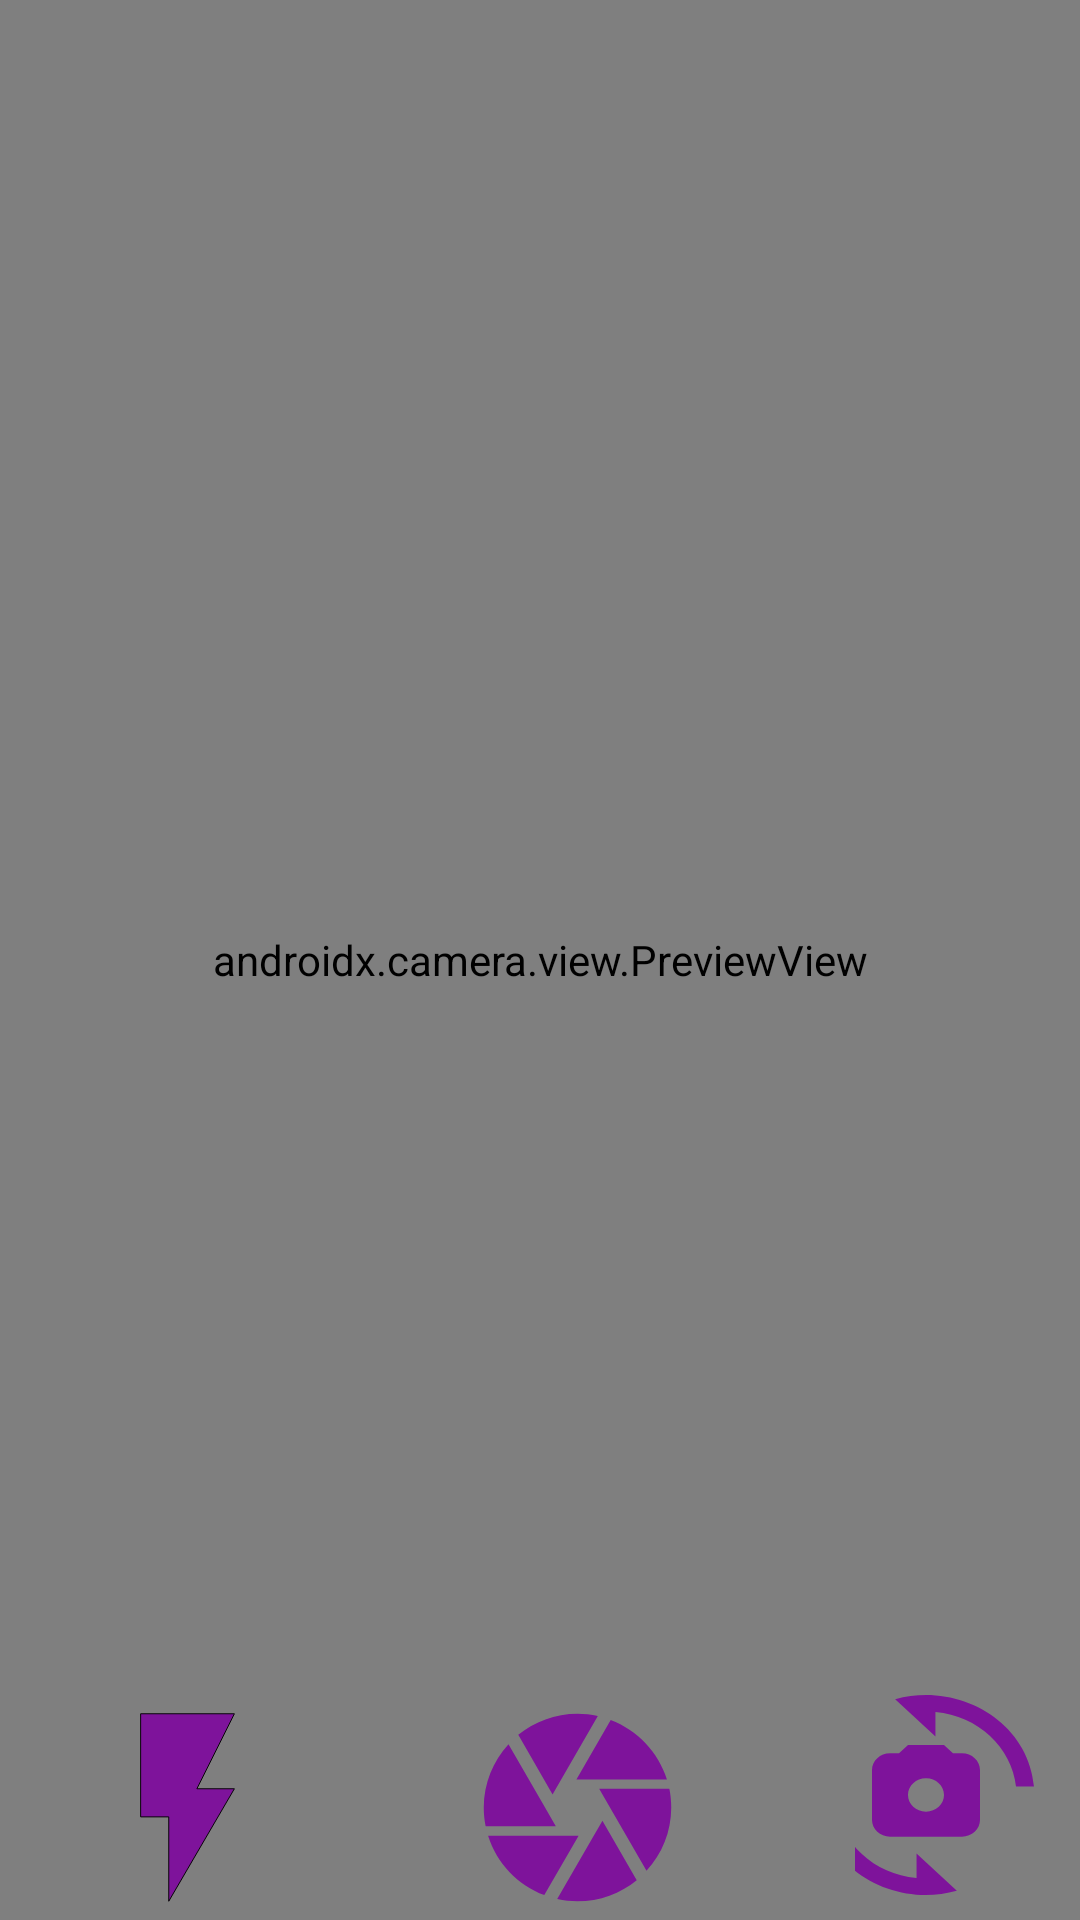

Screen size 1080 x 1920. Icon name, then its box in pixels as (left=x1, top=y1, right=x2, bottom=y2):
cameraswitch: (left=855, top=1695, right=1034, bottom=1895)
flash: (left=140, top=1713, right=235, bottom=1902)
